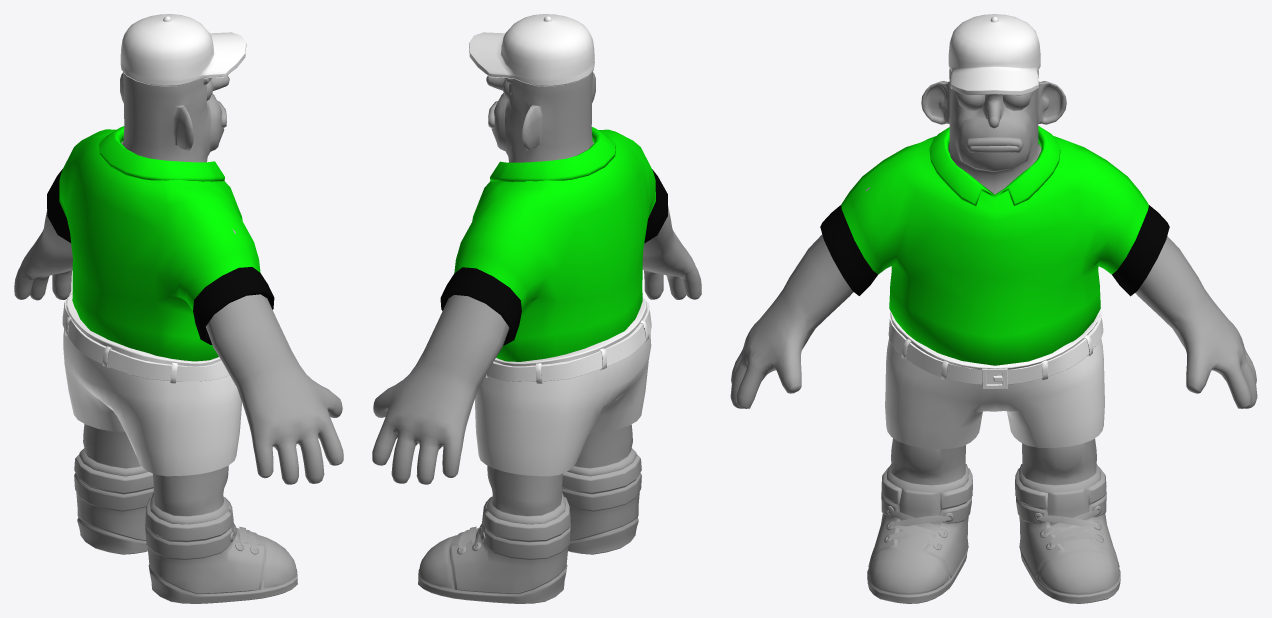
The model's file is jimmk2.fbx.
3 renders of one model, left to right at view 1: azimuth 30°, elevation 25°; view 2: azimuth 150°, elevation 25°; view 3: azimuth 270°, elevation 25°, orthographic.
Visible parts, largest first — view 1: body10, shirt, shorts, hat, buckle1; view 2: body10, shirt, shorts, hat, buckle1; view 3: shirt, body10, shorts, hat, buckle1, mouth.
Boxes of the visible parts, x1,y1,x2,y2 form: body10: (14, 72, 343, 603); shirt: (47, 126, 274, 361); shorts: (63, 292, 241, 476); hat: (120, 14, 246, 86); buckle1: (62, 299, 229, 381); body10: (372, 71, 701, 603); shirt: (440, 127, 667, 361); shorts: (475, 297, 651, 476); hat: (469, 14, 594, 86); buckle1: (486, 302, 651, 381); shirt: (820, 126, 1169, 365); body10: (730, 68, 1257, 603); shorts: (885, 311, 1104, 448); hat: (948, 14, 1040, 95); buckle1: (888, 310, 1103, 388); mouth: (966, 137, 1023, 152).
Bounding box in the file's own units: 4.98 × 15.39 × 13.44.
